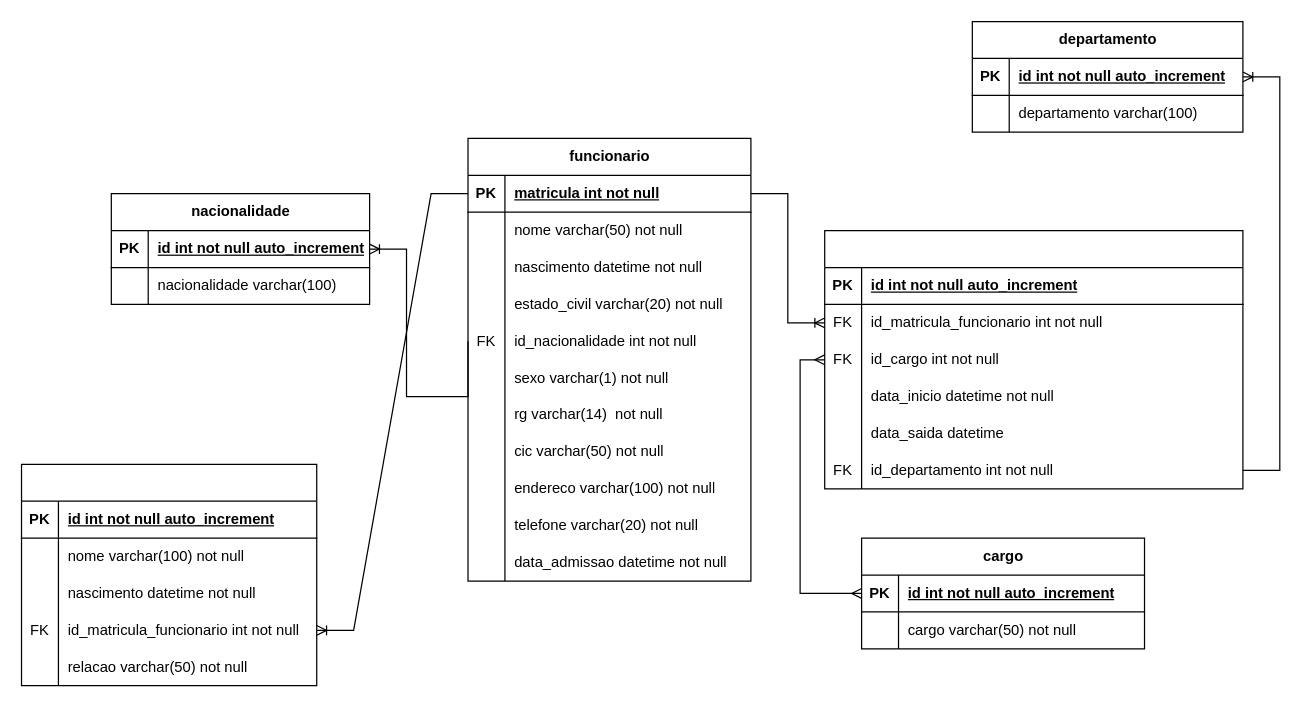
Some shapes in this 1311 by 707 pixel diagram are drawn without their labels. The shapes that lost their labels are listed below. From the top down, each one's box as (x1, y1, x2, y2) in pixels, then its label:
(823, 229, 1243, 489): cargo_ocupado
(20, 463, 317, 686): dependente
